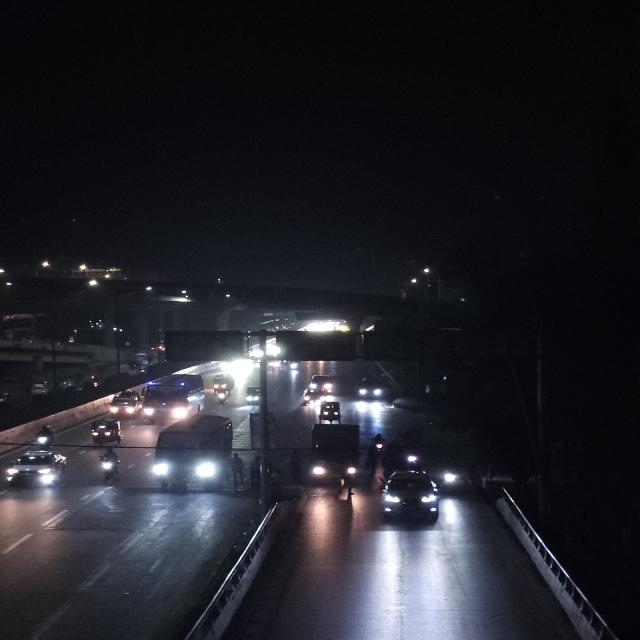bus: (155, 412, 236, 492), (142, 371, 209, 423)
car: (376, 469, 442, 528), (3, 448, 71, 489), (357, 374, 389, 402), (306, 373, 339, 394), (300, 390, 330, 404)
cng: (90, 416, 124, 446), (318, 399, 343, 426), (243, 385, 268, 407)
motorcycle: (96, 447, 122, 481), (34, 423, 58, 451)
pickup_van: (110, 389, 142, 419)
truck: (305, 422, 362, 489)
